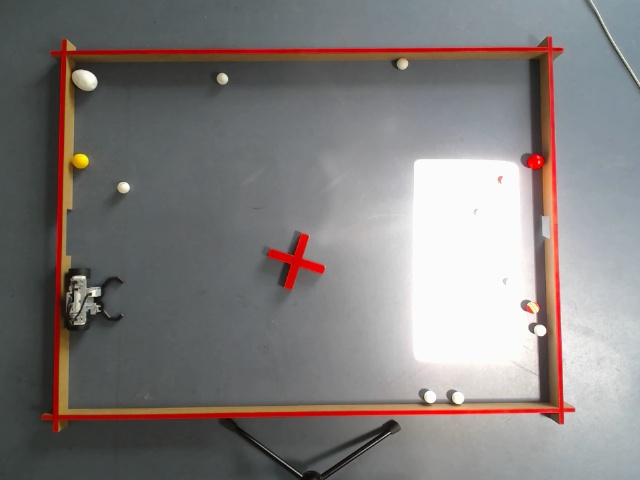big_goal: (56, 207, 72, 255)
cross: (268, 231, 324, 291)
egg: (72, 69, 96, 90)
orange: (498, 174, 504, 183)
robot: (64, 267, 124, 333)
small_goal: (542, 215, 558, 237)
wall: (40, 399, 576, 420), (537, 36, 564, 425), (52, 39, 76, 432), (50, 47, 562, 63)
white: (216, 72, 228, 86), (452, 390, 464, 404), (424, 390, 436, 402), (116, 182, 130, 192), (397, 57, 408, 69), (476, 207, 486, 219), (534, 324, 544, 335), (506, 276, 516, 287)
